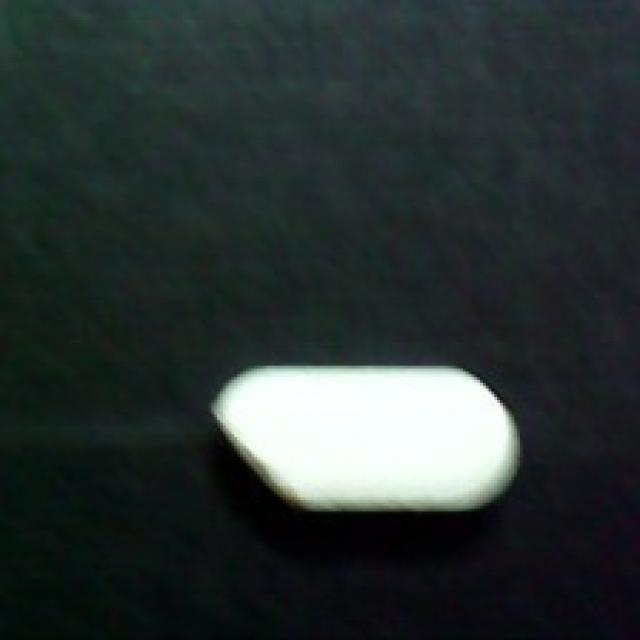defected: (211, 363, 526, 520)
